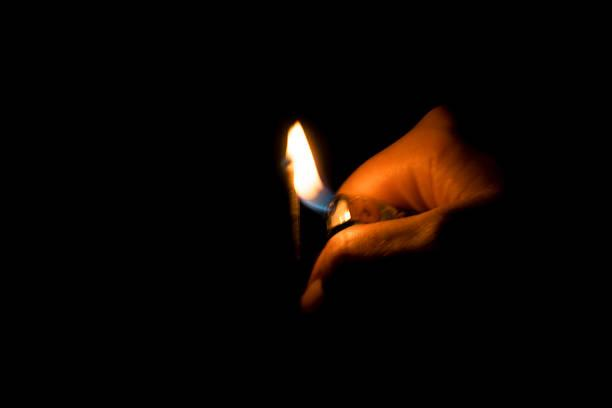Fire: (284, 114, 334, 212)
